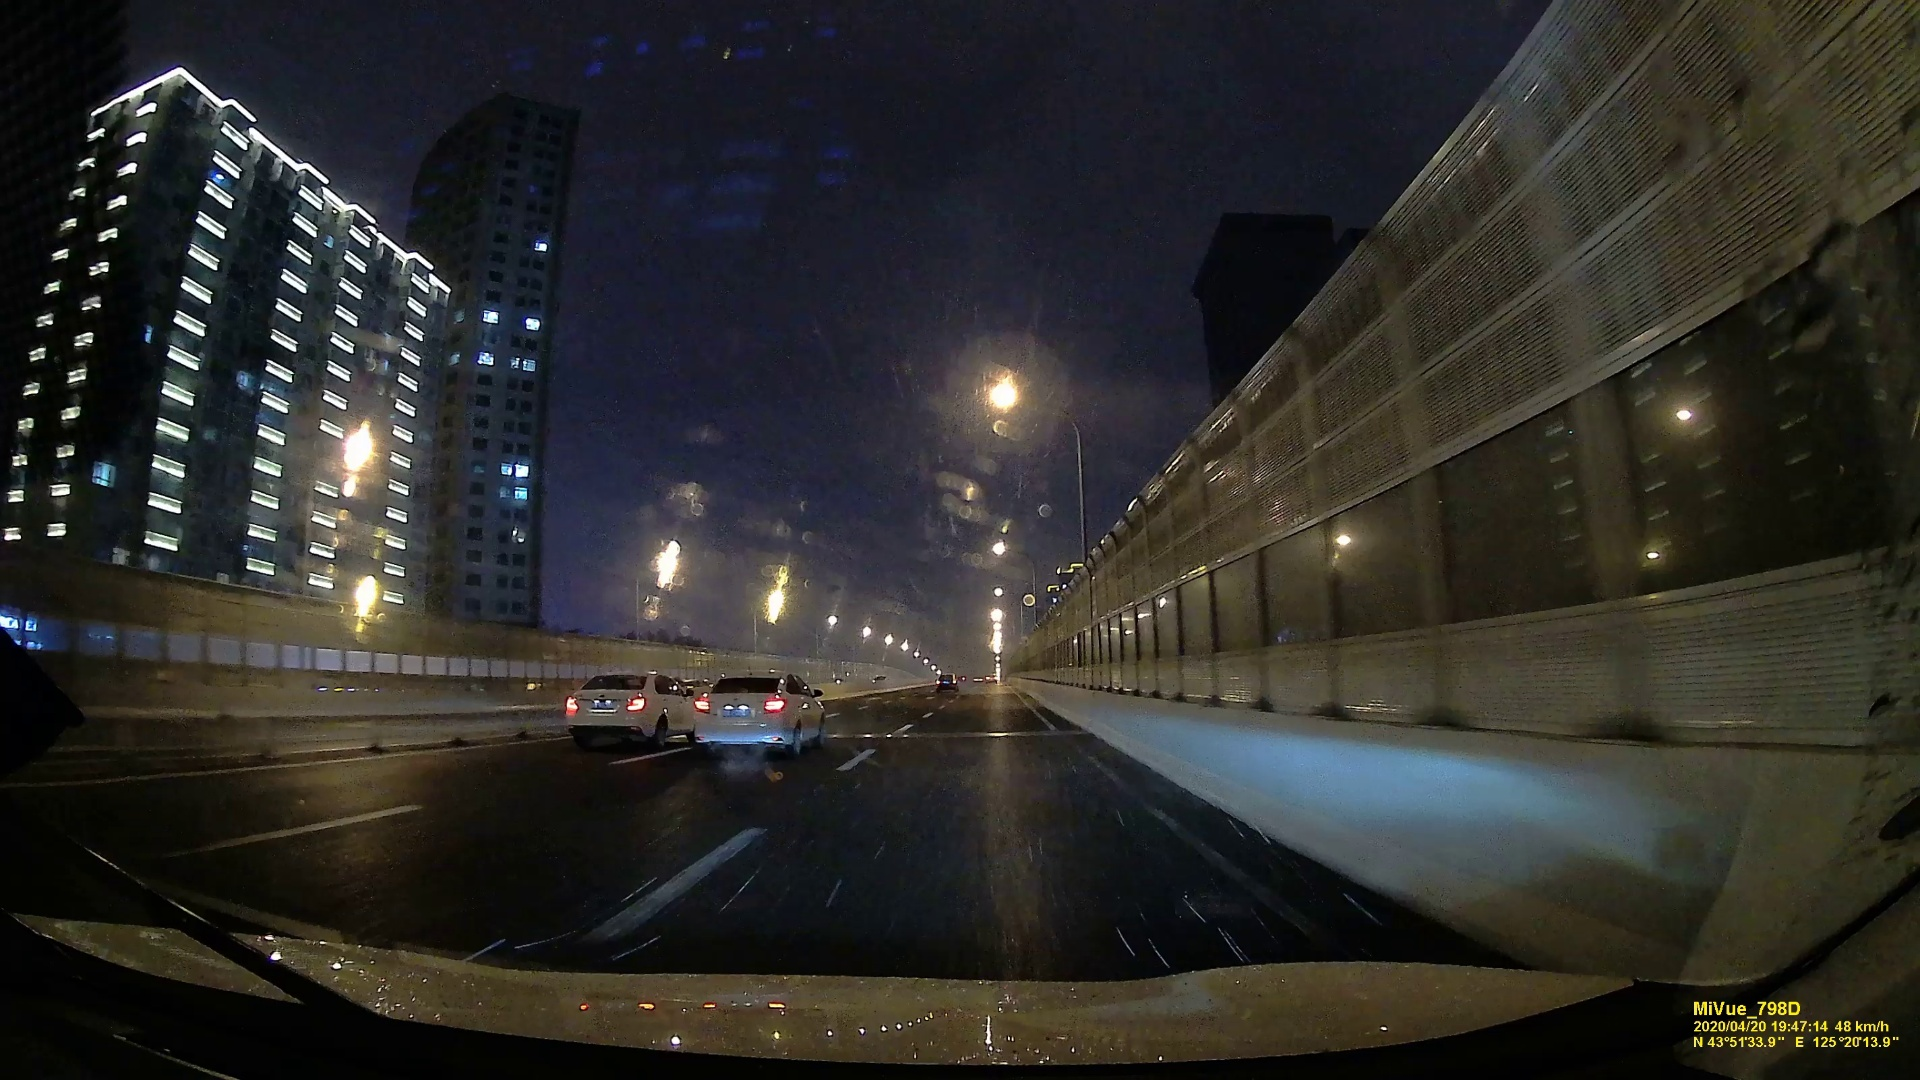vehicle: (695, 669, 827, 760), (564, 671, 699, 749), (935, 673, 960, 694)
